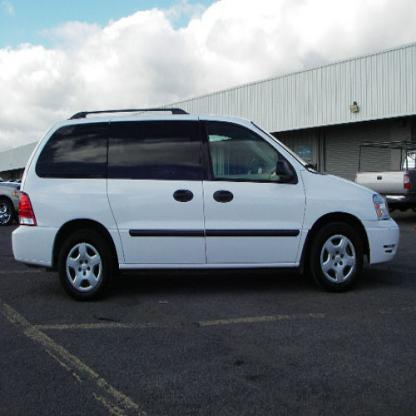car: (2, 112, 415, 290), (2, 182, 22, 227)
